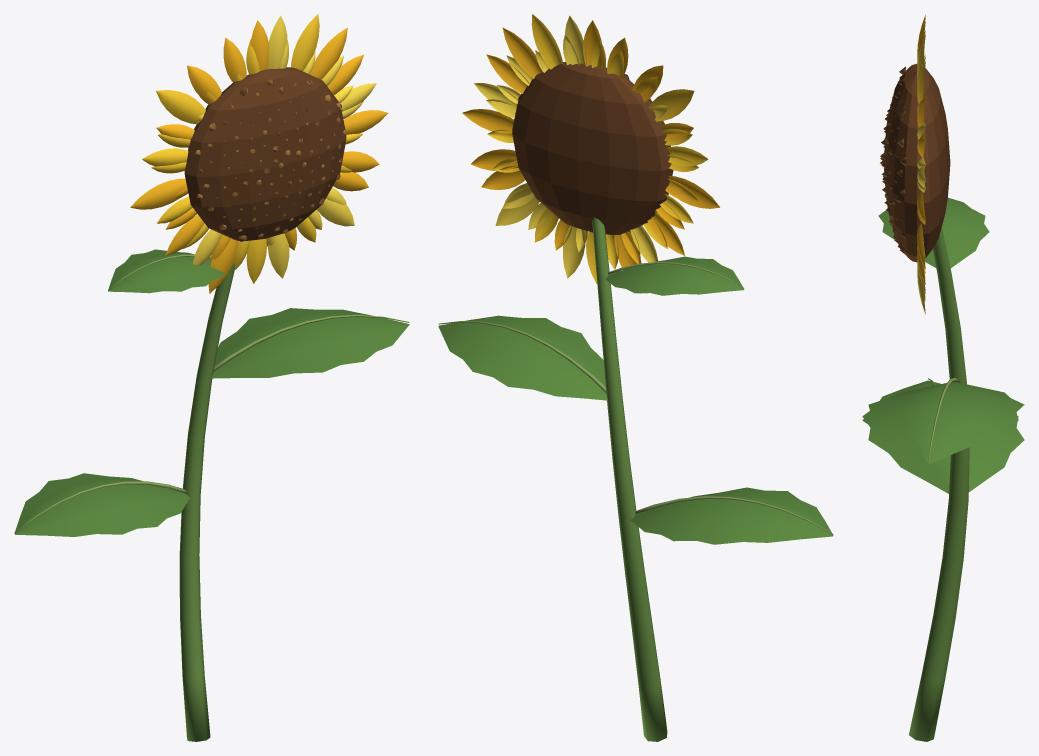
File: sunflower-test-bloom-0-2.glb
3 views of the same model, side by side, from view 1: azimuth 30°, elevation 25°; view 2: azimuth 150°, elevation 25°; view 3: azimuth 270°, elevation 25° (orthographic). The views are drawn at different scales.
Visible parts, largest first — view 1: Curved tapered stem; view 2: Curved tapered stem; view 3: Curved tapered stem.
Part boxes in pixels (left/top/right/bottom): Curved tapered stem: left=14, top=14, right=409, bottom=741; Curved tapered stem: left=438, top=14, right=833, bottom=741; Curved tapered stem: left=862, top=15, right=1024, bottom=741.
Bounding box in the file's own units: 0.3333 × 0.568 × 0.1116.
